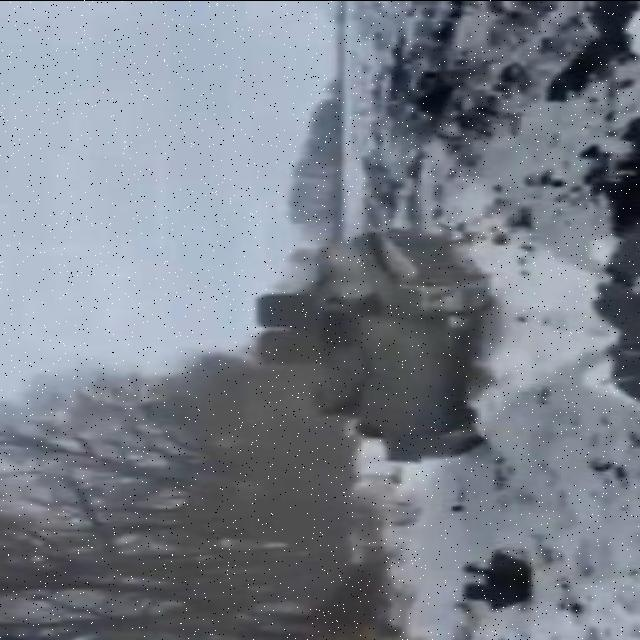APC-IFV: (242, 223, 500, 465)
